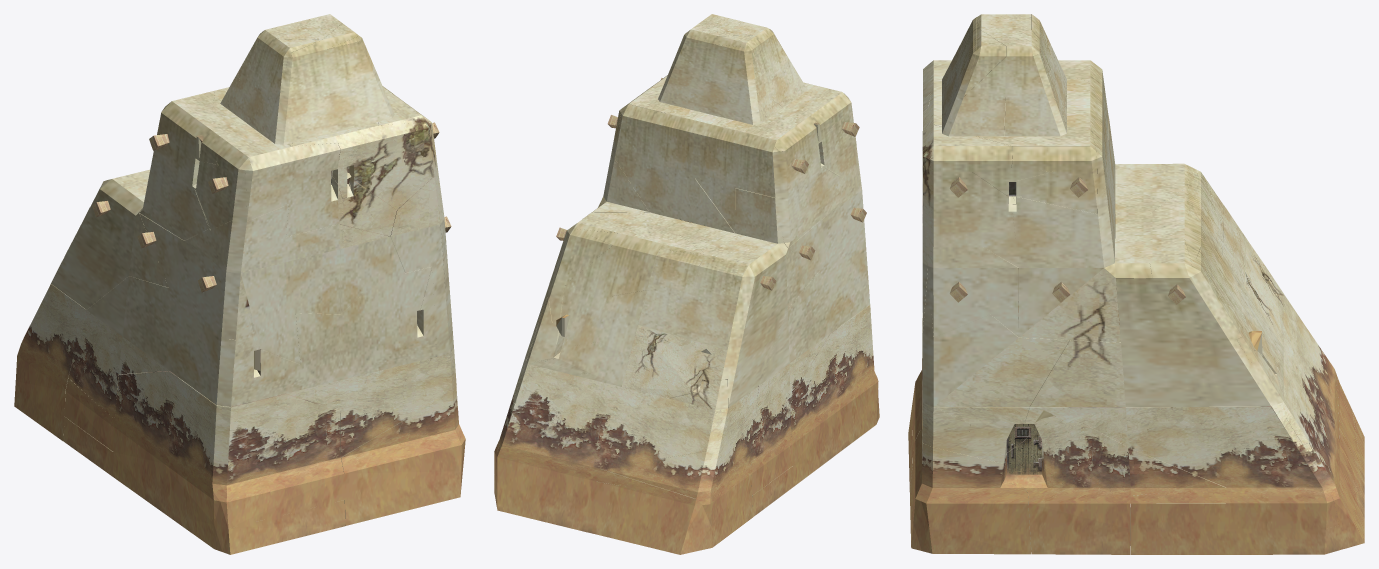
Rendered from C2SMCITY_EXPLO.obj.
The picture shows the model from 3 angles, left to right: view 1: azimuth 30°, elevation 25°; view 2: azimuth 150°, elevation 25°; view 3: azimuth 270°, elevation 25°; orthographic projection. The views are drawn at different scales.
Parts seen in each view (by area): view 1: Node 7, Node 8, Node 15, Node 14, Node 35, Node 10, Node 19, Node 0, Node 33, Node 23, Node 26, Node 20 (+9 smaller); view 2: Node 0, Node 2, Node 1, Node 10, Node 21, Node 7, Node 8, Node 16, Node 3, Node 27, Node 20, Node 23 (+9 smaller); view 3: Node 4, Node 12, Node 6, Node 30, Node 18, Node 15, Node 14, Node 16, Node 27, Node 1, Node 2, Node 39 (+13 smaller).
Part boxes in pixels (<box>): Node 7: <box>68,171,405,419</box>; Node 8: <box>64,371,345,554</box>; Node 15: <box>340,226,456,457</box>; Node 14: <box>230,386,465,527</box>; Node 35: <box>279,37,394,144</box>; Node 10: <box>51,169,168,309</box>; Node 19: <box>224,313,394,410</box>; Node 0: <box>14,258,86,441</box>; Node 33: <box>292,87,434,209</box>; Node 23: <box>161,90,291,229</box>; Node 26: <box>245,143,360,236</box>; Node 20: <box>139,113,218,240</box>; Node 0: <box>589,361,758,554</box>; Node 2: <box>515,285,706,468</box>; Node 1: <box>494,405,693,532</box>; Node 10: <box>661,188,819,407</box>; Node 21: <box>614,83,808,232</box>; Node 7: <box>751,146,870,460</box>; Node 8: <box>751,305,879,516</box>; Node 16: <box>565,178,734,301</box>; Node 3: <box>621,290,734,398</box>; Node 27: <box>658,34,782,124</box>; Node 20: <box>772,122,841,247</box>; Node 23: <box>740,83,856,178</box>; Node 4: <box>1024,406,1343,554</box>; Node 12: <box>1030,238,1296,446</box>; Node 6: <box>1003,423,1225,554</box>; Node 30: <box>922,125,1049,337</box>; Node 18: <box>971,160,1152,342</box>; Node 15: <box>922,268,1069,455</box>; Node 14: <box>909,411,1031,554</box>; Node 16: <box>1108,163,1231,313</box>; Node 27: <box>964,17,1066,136</box>; Node 1: <box>1304,378,1364,548</box>; Node 2: <box>1223,255,1334,441</box>; Node 39: <box>1011,125,1097,214</box>.
Size of the model in its own units: 12.9 by 22.44 by 19.55.
135 materials, 135 textured.
